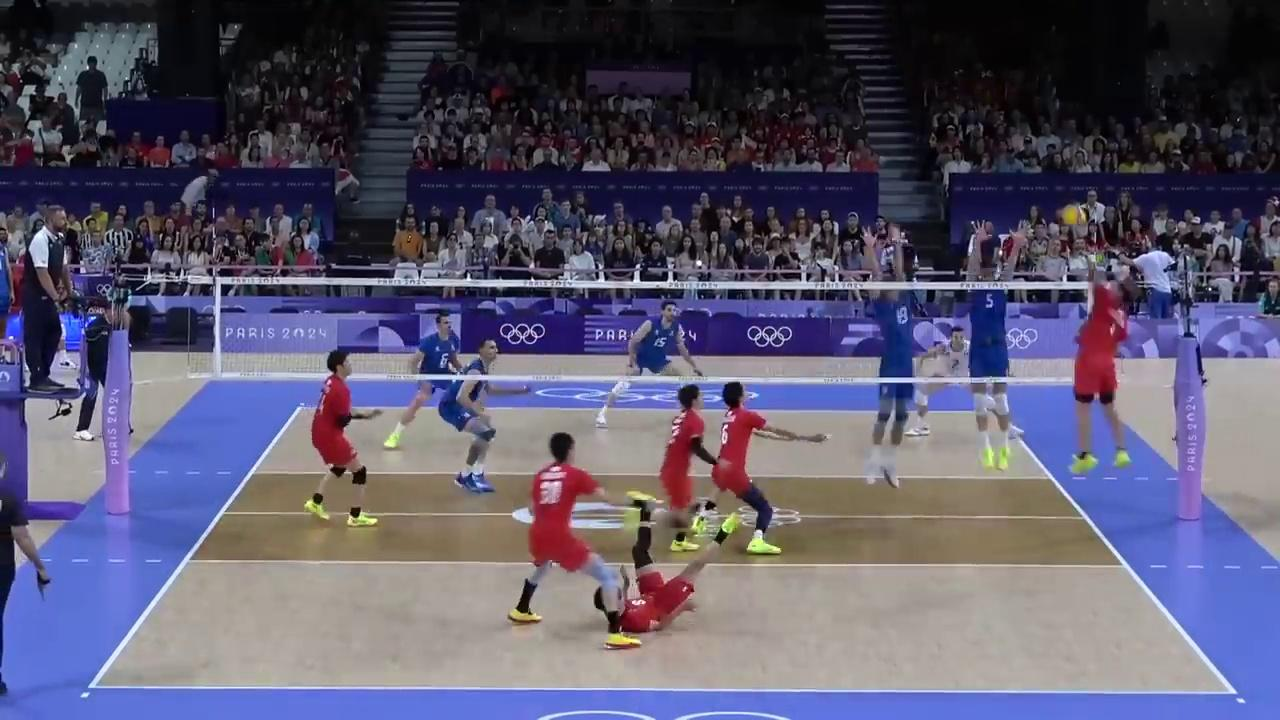ball: (1062, 204, 1084, 223)
